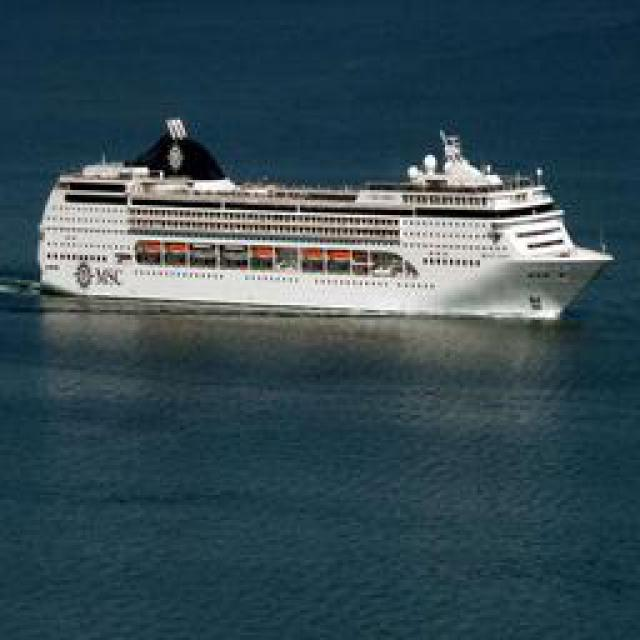Ship: (37, 114, 615, 324)
